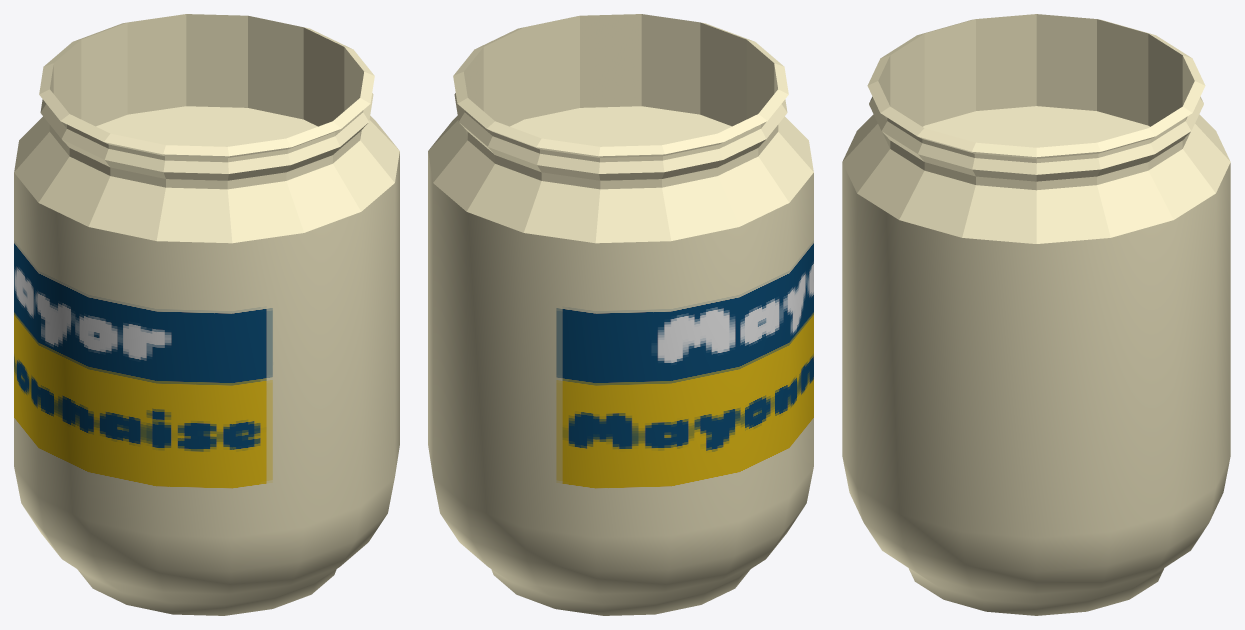
File: Mayonnaise_Jar.fbx
The picture shows the model from 3 angles, left to right: view 1: azimuth 30°, elevation 25°; view 2: azimuth 150°, elevation 25°; view 3: azimuth 270°, elevation 25°; orthographic projection.
Visible parts, largest first — view 1: Mayonnaise; view 2: Mayonnaise; view 3: Mayonnaise.
Boxes of the visible parts, x1,y1,x2,y2 form: Mayonnaise: [14, 14, 399, 615]; Mayonnaise: [428, 14, 813, 615]; Mayonnaise: [842, 14, 1230, 615].
Size of the model in its own units: 22.11 by 30.1 by 22.11.
